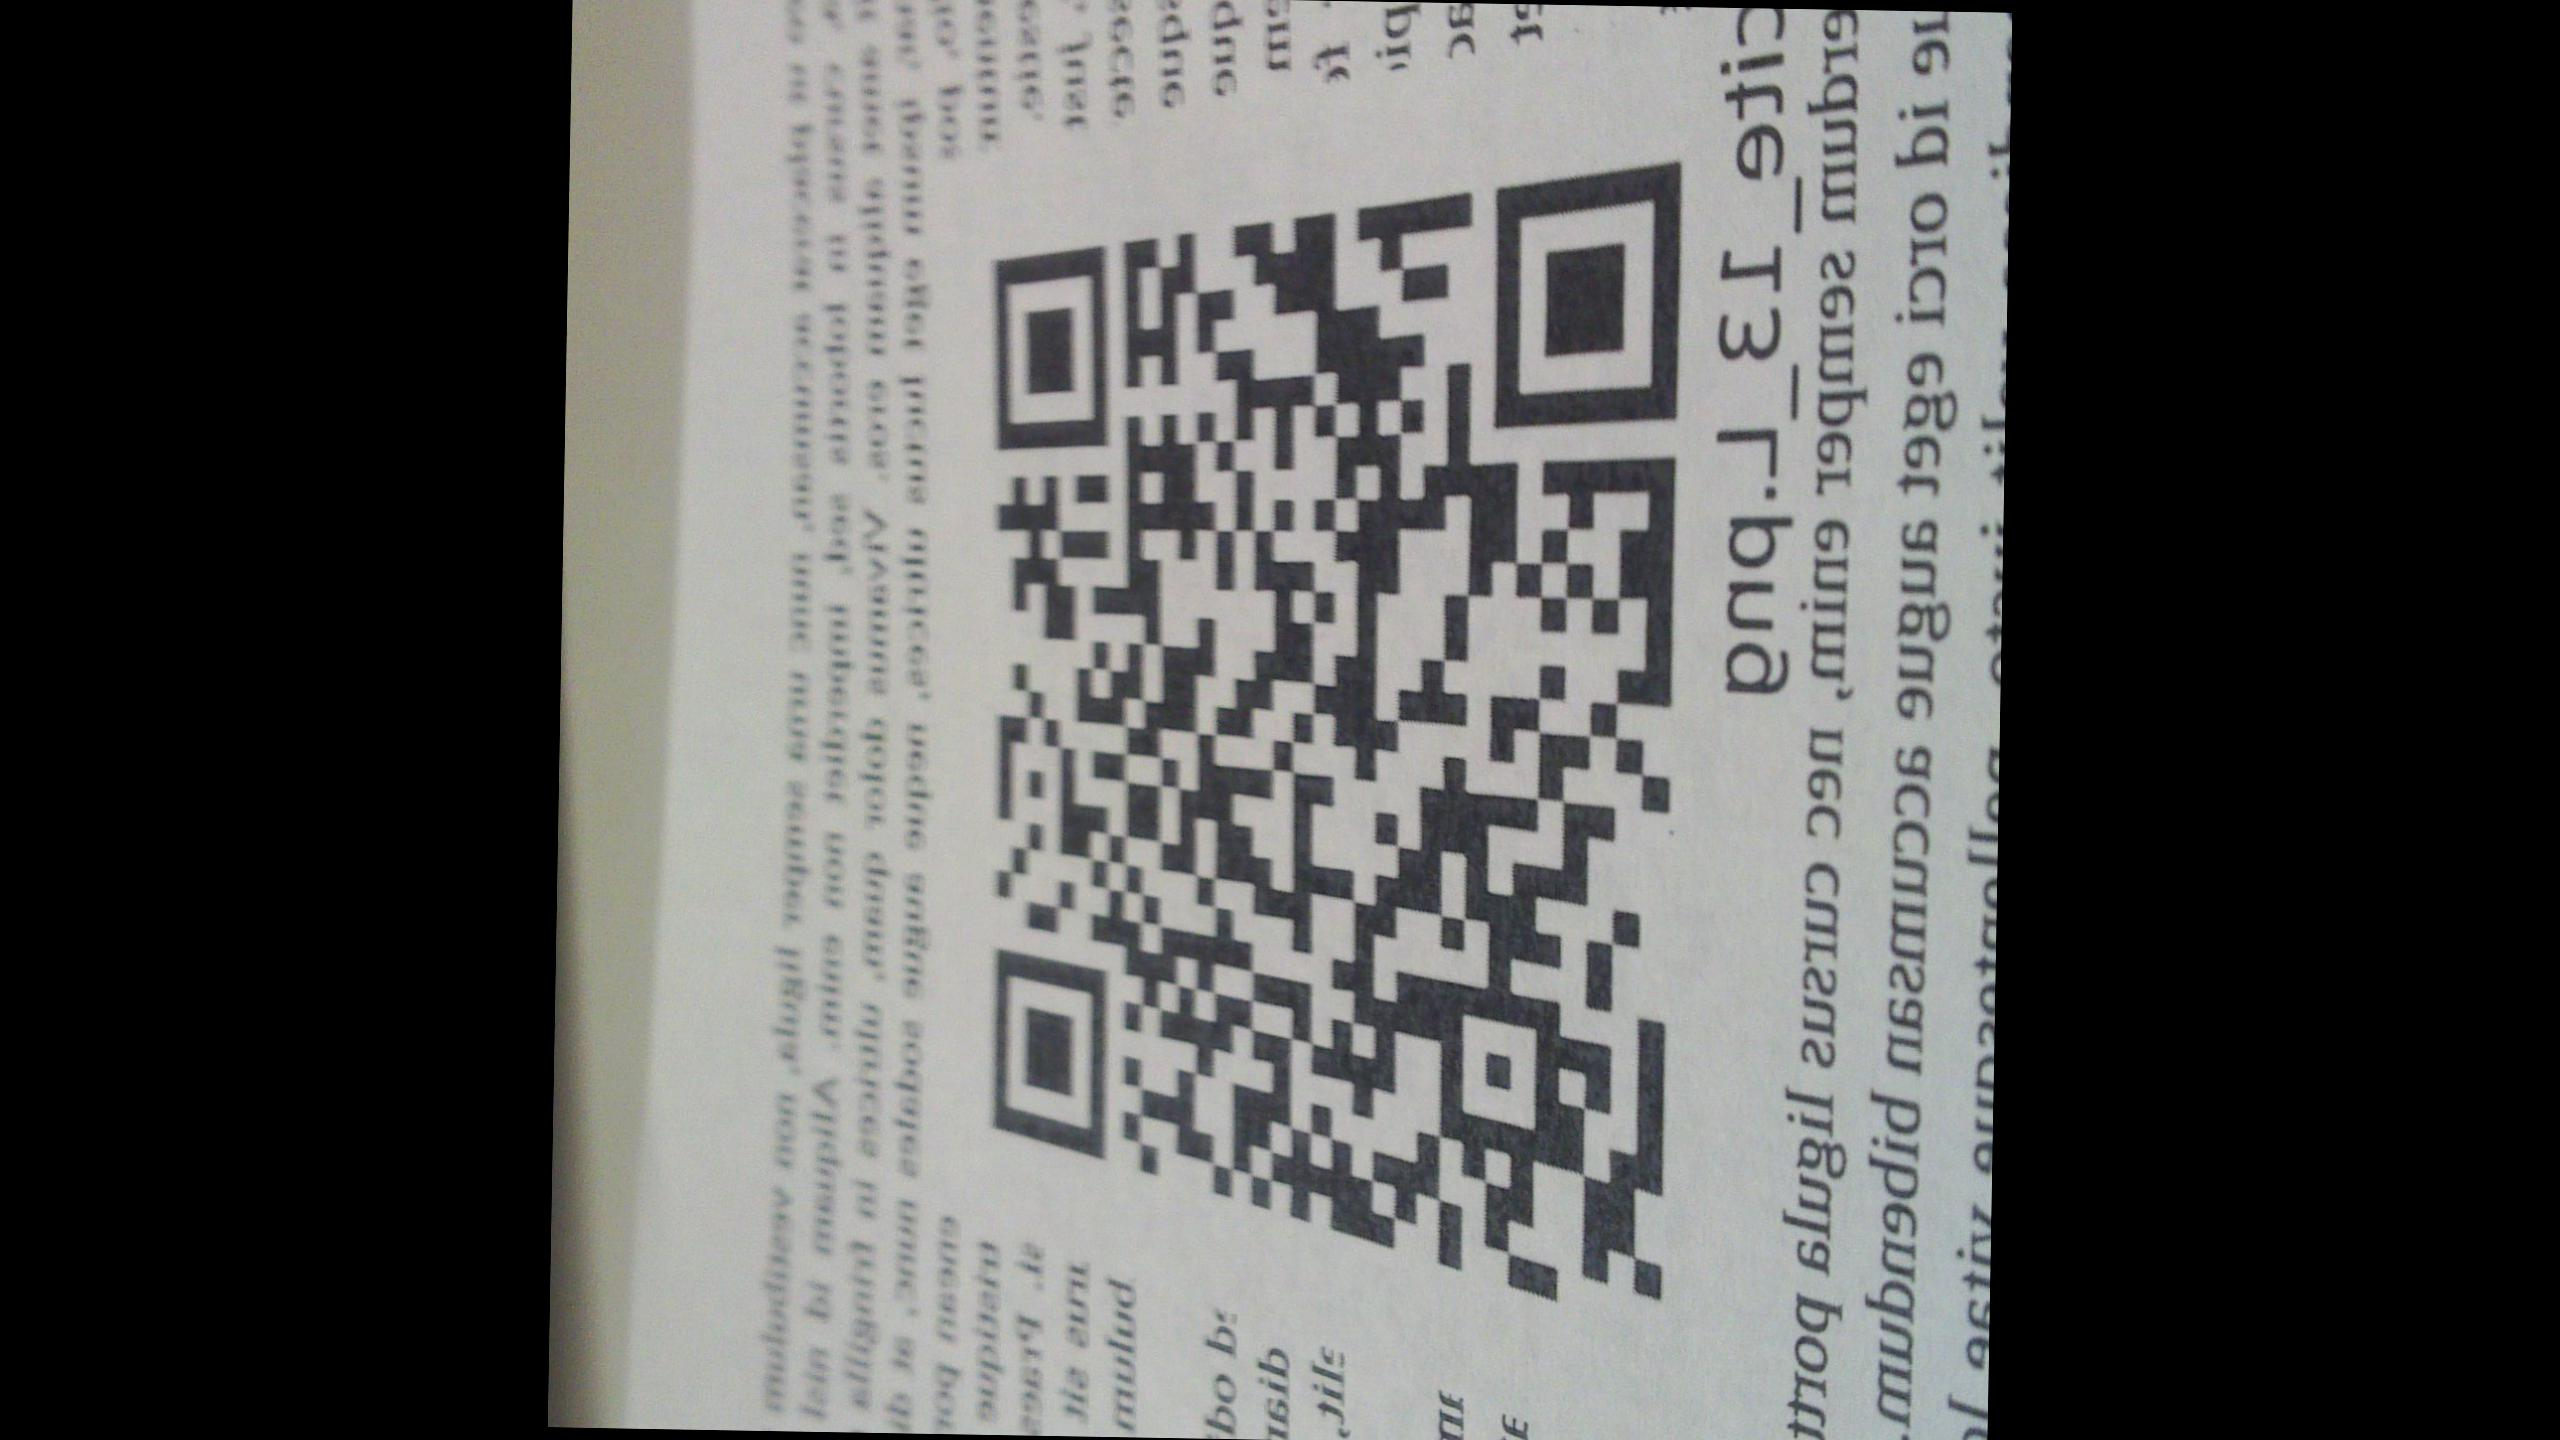QR: (971, 149, 1683, 1296)
